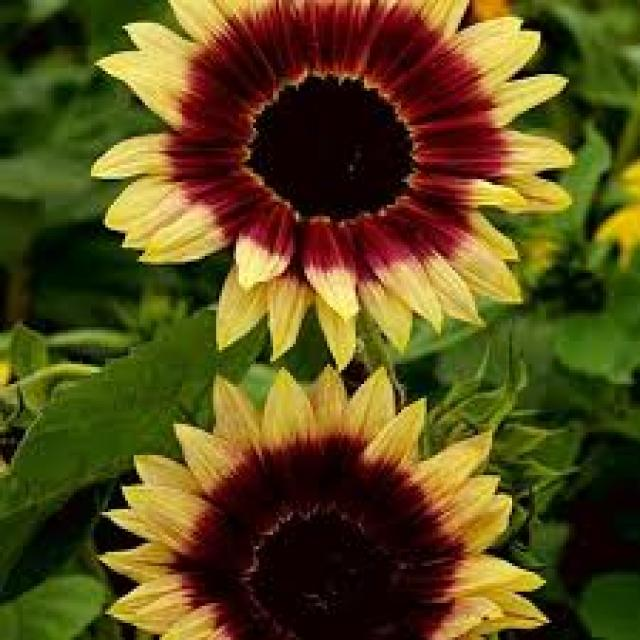sunflower: (95, 1, 584, 378), (91, 364, 569, 640)
